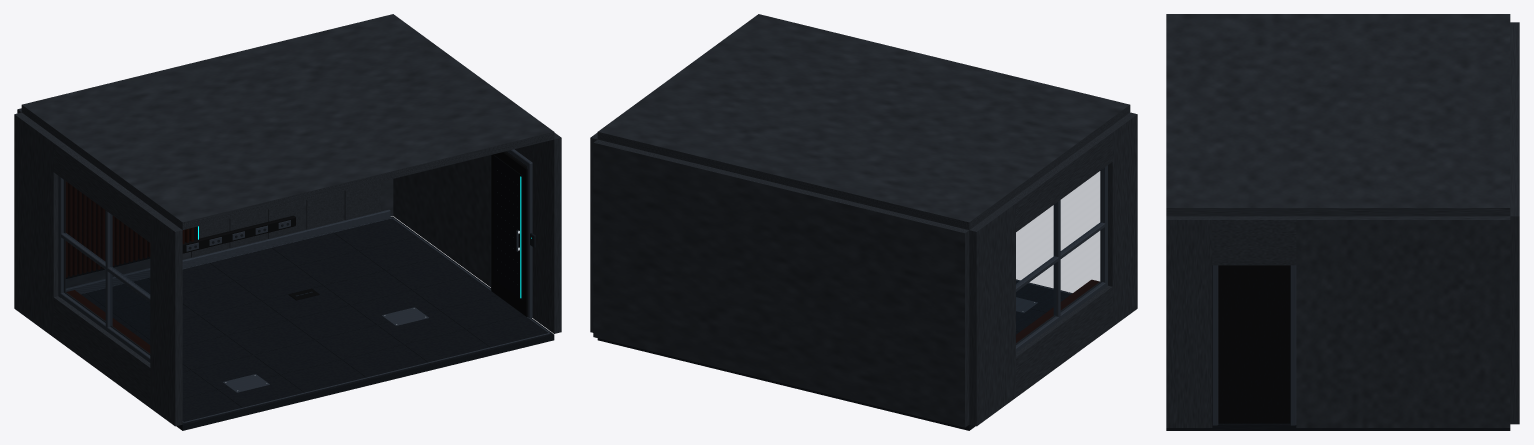
The model's file is room-shell.glb.
The picture shows the model from 3 angles, left to right: view 1: azimuth 30°, elevation 25°; view 2: azimuth 150°, elevation 25°; view 3: azimuth 270°, elevation 25°; orthographic projection. The views are drawn at different scales.
Visible parts, largest first — view 1: Room_Ceiling, Room_LeftWall, Room_RightWall, Window_Glass, Room_Floor, Door_InnerPanel, Window_Frame, Baseboard_Back, Door_Main, Floor_Panel_5_4, Floor_Panel_2_4, Floor_Panel_3_3 (+42 smaller); view 2: Room_BackWall, Room_Ceiling, Room_LeftWall, Window_Glass, Window_Frame, Room_Floor, Room_RightWall, Floor_Panel_6_2, Window_Sill; view 3: Room_Ceiling, Room_RightWall, Door_Main, Room_BackWall, Door_Frame, Room_Floor.
Part boxes in pixels (x1=…): Room_Ceiling: x1=21, y1=14, x2=554, y2=229; Room_LeftWall: x1=14, y1=112, x2=182, y2=426; Room_RightWall: x1=393, y1=132, x2=561, y2=333; Window_Glass: x1=63, y1=180, x2=149, y2=353; Room_Floor: x1=85, y1=233, x2=554, y2=430; Door_InnerPanel: x1=494, y1=155, x2=522, y2=299; Window_Frame: x1=58, y1=176, x2=150, y2=362; Baseboard_Back: x1=65, y1=209, x2=390, y2=293; Door_Main: x1=491, y1=151, x2=527, y2=316; Floor_Panel_5_4: x1=315, y1=325, x2=402, y2=359; Floor_Panel_2_4: x1=235, y1=266, x2=321, y2=300; Floor_Panel_3_3: x1=200, y1=301, x2=286, y2=335; Room_BackWall: x1=593, y1=139, x2=969, y2=427; Room_Ceiling: x1=597, y1=14, x2=1130, y2=229; Room_LeftWall: x1=969, y1=112, x2=1137, y2=426; Window_Glass: x1=1016, y1=170, x2=1101, y2=343; Window_Frame: x1=1016, y1=165, x2=1107, y2=352; Room_Floor: x1=597, y1=292, x2=1067, y2=430; Room_RightWall: x1=590, y1=132, x2=597, y2=332; Floor_Panel_6_2: x1=1016, y1=279, x2=1067, y2=311; Window_Sill: x1=1016, y1=279, x2=1099, y2=342; Room_Ceiling: x1=1166, y1=14, x2=1510, y2=216; Room_RightWall: x1=1166, y1=216, x2=1510, y2=427; Door_Main: x1=1218, y1=265, x2=1290, y2=423; Room_BackWall: x1=1510, y1=22, x2=1519, y2=424; Door_Frame: x1=1212, y1=265, x2=1296, y2=425; Room_Floor: x1=1166, y1=423, x2=1510, y2=430.
Size of what is drawn, in the model's own units: 6.24 by 3.22 by 4.62.
Materials: 11 (7 with a texture image).
